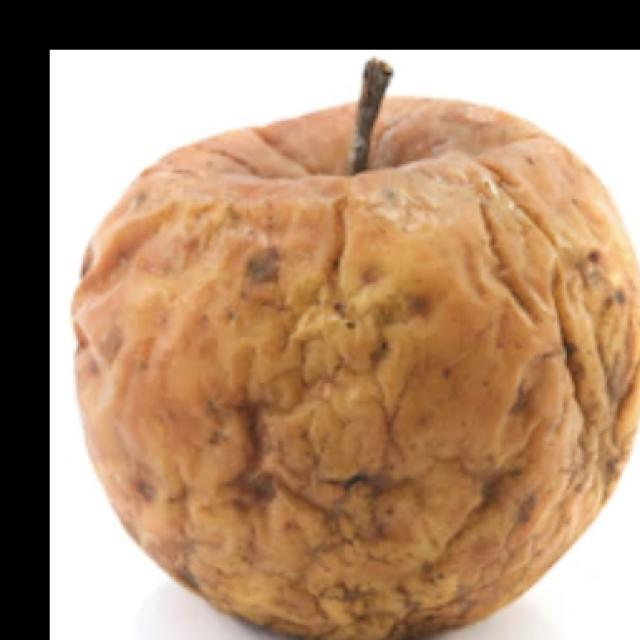Rotten: (113, 116, 640, 639)
